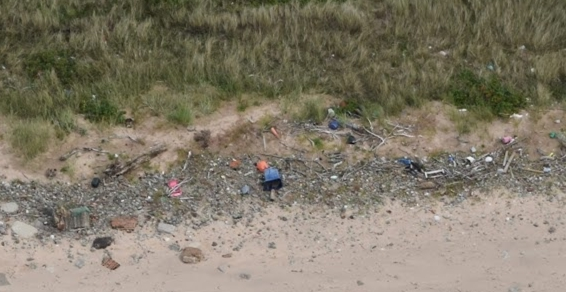scattered_barrel: (86, 208, 216, 281), (320, 101, 431, 174), (164, 150, 291, 211), (456, 128, 559, 180)
white_in_green: (74, 162, 119, 200), (255, 110, 300, 148)
